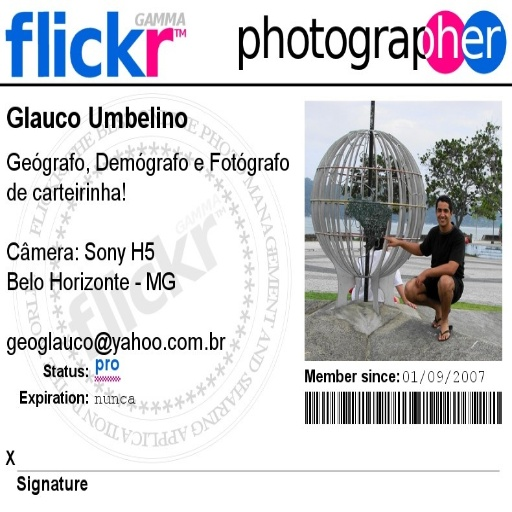hand: (404, 296, 418, 310), (384, 235, 400, 245), (414, 271, 423, 286)
